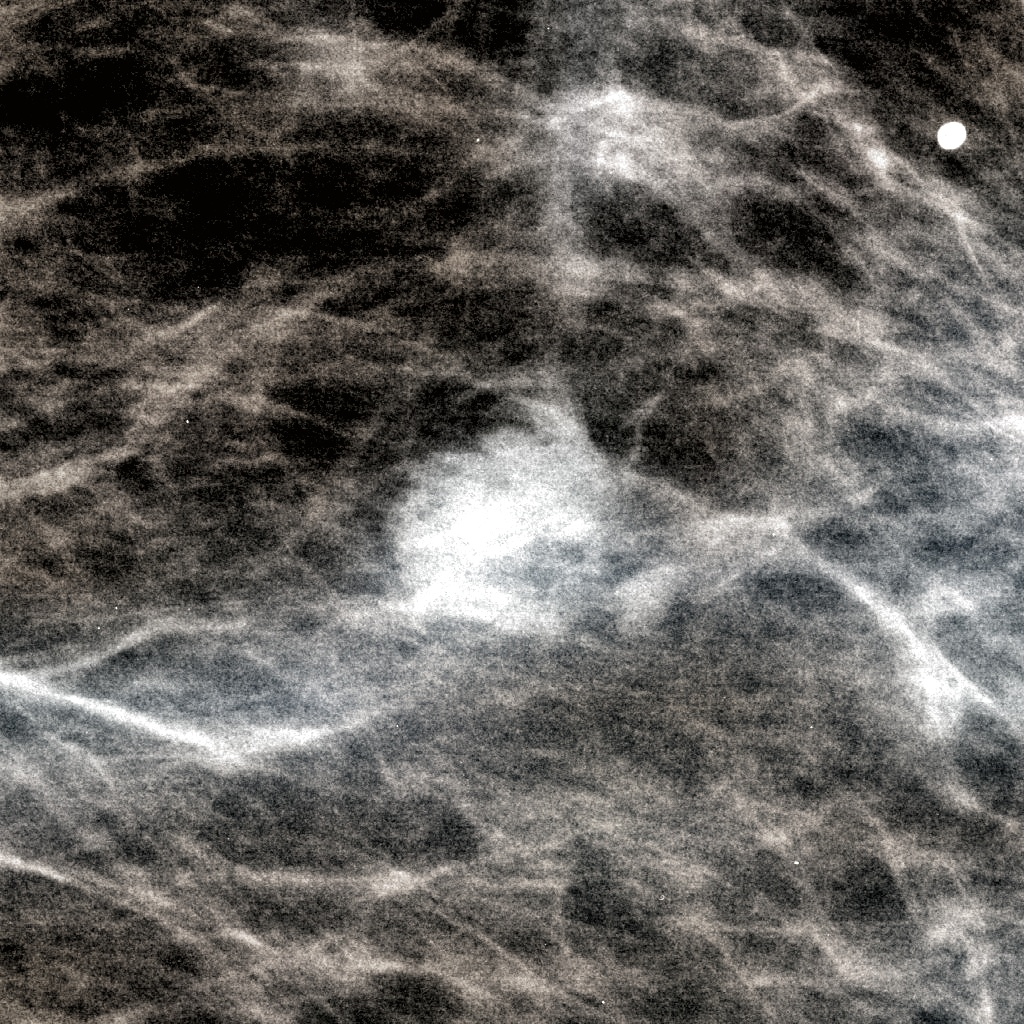tumor: (365, 370, 659, 654)
